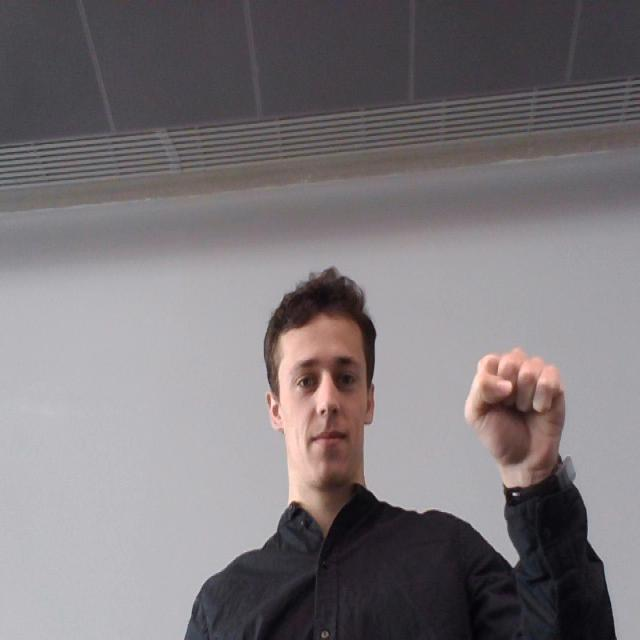stop: (465, 349, 575, 481)
